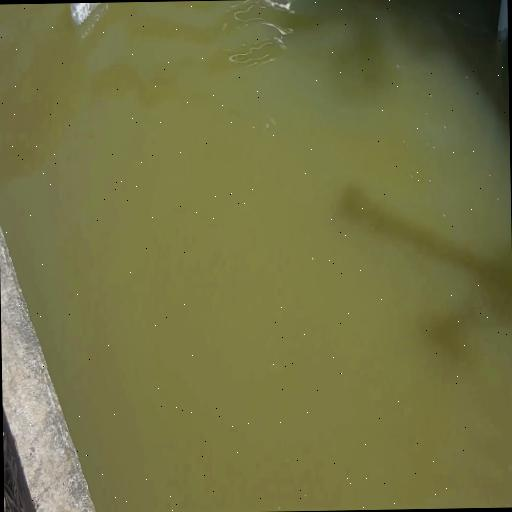plastic: (70, 2, 102, 28)
